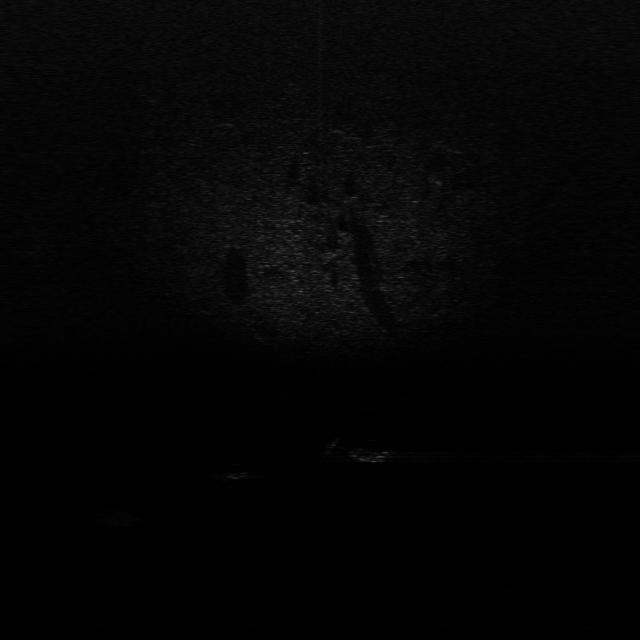ball: (218, 461, 251, 482)
circle cage: (93, 505, 143, 530)
human body: (321, 434, 402, 465)
